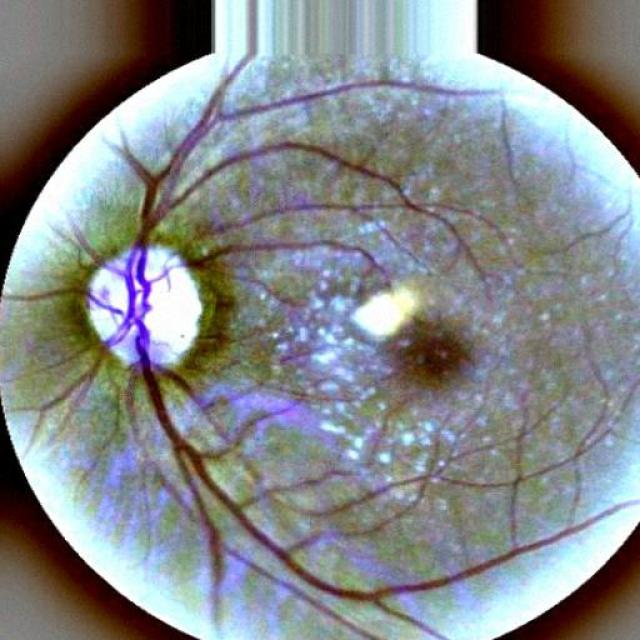Macula: (401, 316, 468, 378)
Nerves: (38, 54, 574, 639), (179, 240, 385, 272), (12, 286, 79, 299)
Optic Disk: (89, 245, 201, 366)
